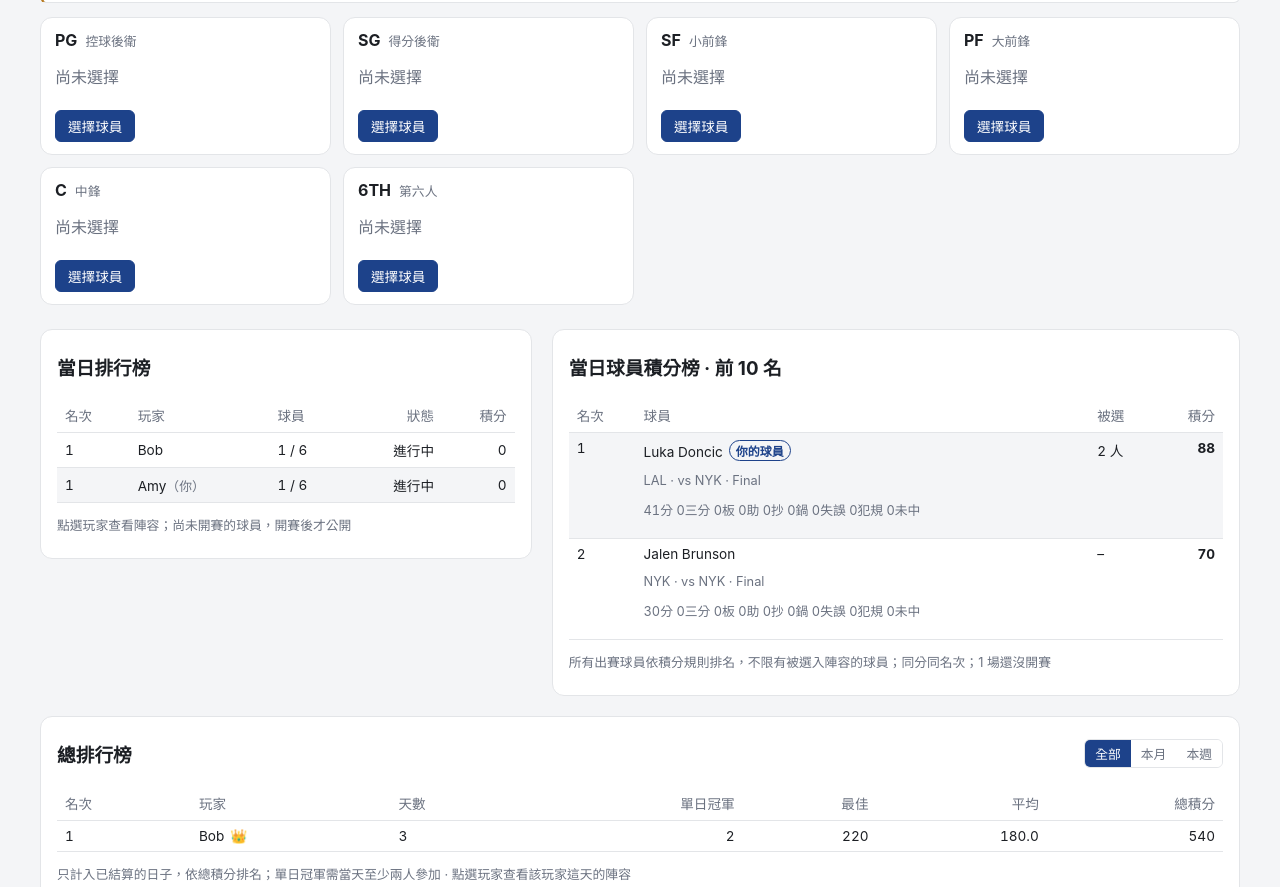
Test: viewing another player's lineup is read-only and hides unstarted picks
(page scrolled)
Click the text "Bob" at (200, 450), box [130,433,269,468]
(page scrolled)
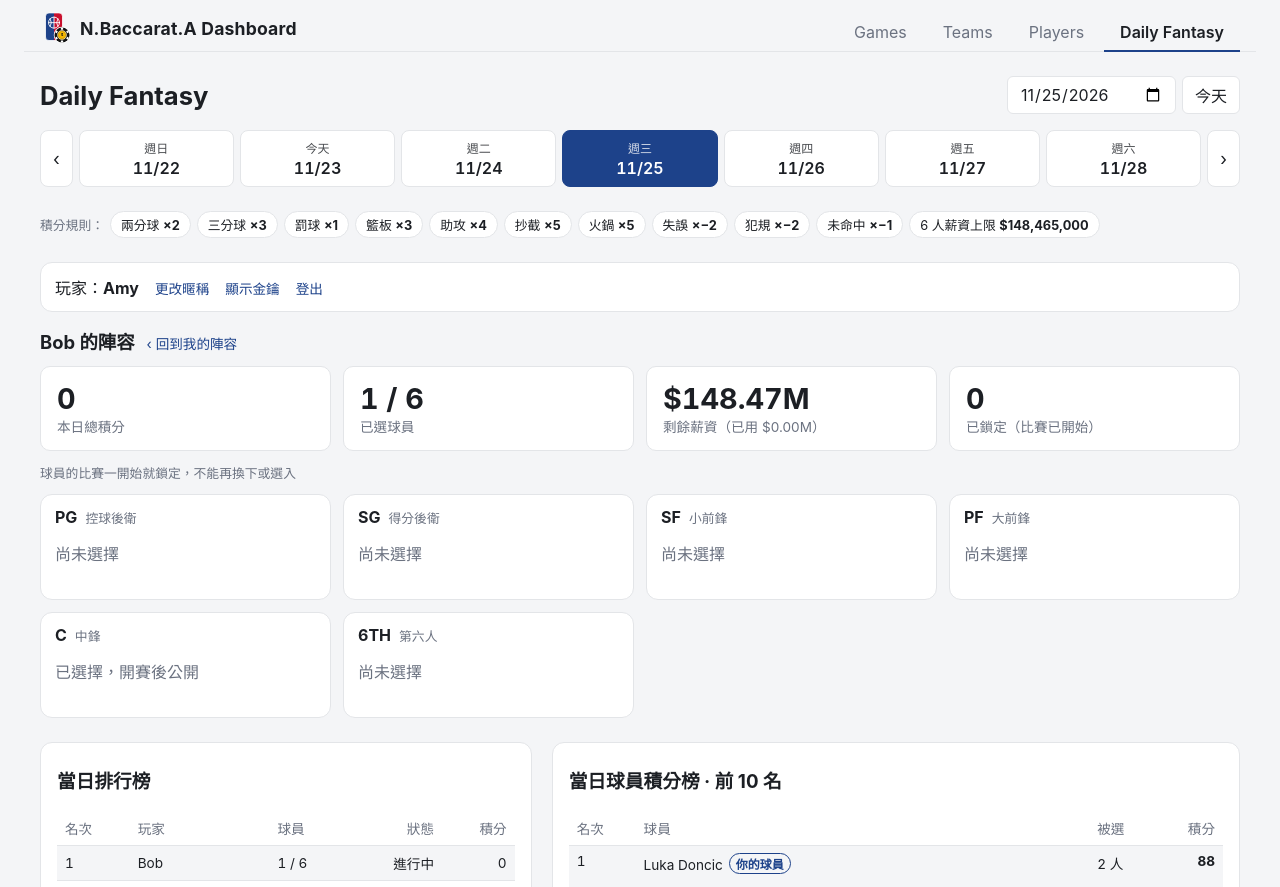
Result: the heading "Bob 的陣容" is shown at [40,328,135,354]
Result: the text "已選擇，開賽後公開" is shown at [55,662,199,682]
Result: the button "選擇球員" is gone
Click the button "‹ 回到我的陣容" at (192, 343), box [147,333,237,353]
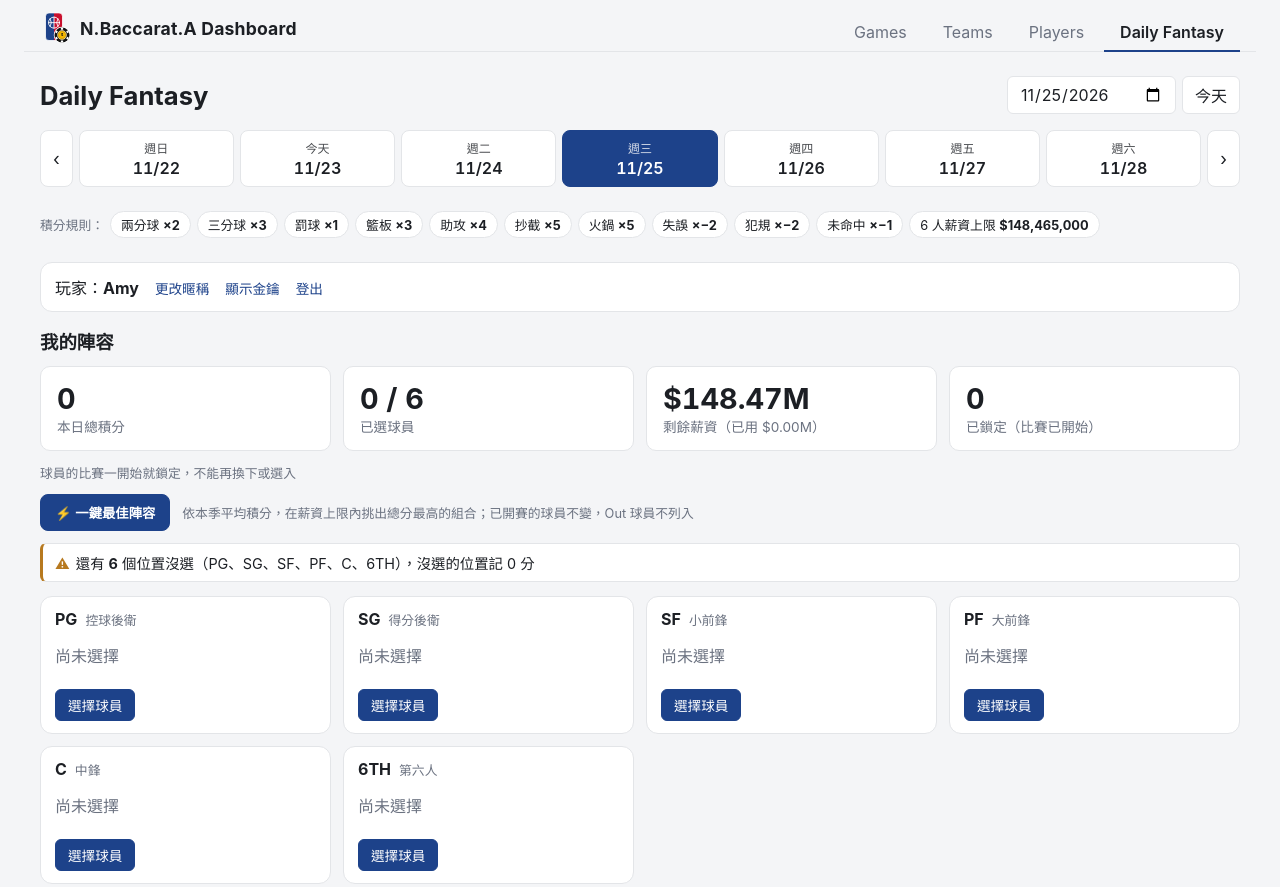
Result: the number of buttons "選擇球員" is 6 at [55,689,135,721]; [358,689,438,721]; [661,689,741,721]; [964,689,1044,721]; [55,839,135,871]; [358,839,438,871]
